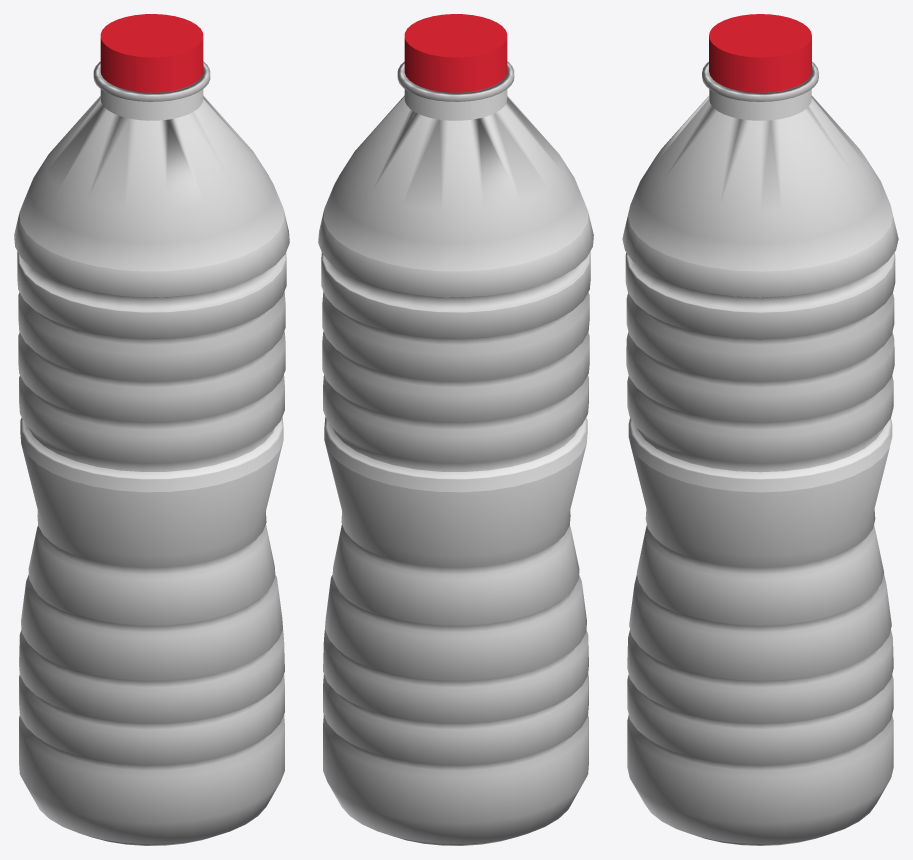
The model's file is bottle.dae.
3 views of the same model, side by side, from view 1: azimuth 30°, elevation 25°; view 2: azimuth 150°, elevation 25°; view 3: azimuth 270°, elevation 25° (orthographic).
Visible parts, largest first — view 1: Cylinder, Cylinder.001, Cylinder.002; view 2: Cylinder, Cylinder.001, Cylinder.002; view 3: Cylinder, Cylinder.001, Cylinder.002.
Part boxes in pixels (<box>): Cylinder: <box>14,61,289,845</box>; Cylinder.001: <box>100,14,203,92</box>; Cylinder.002: <box>20,417,283,845</box>; Cylinder: <box>318,61,593,845</box>; Cylinder.001: <box>404,14,507,92</box>; Cylinder.002: <box>324,417,587,845</box>; Cylinder: <box>622,62,898,845</box>; Cylinder.001: <box>709,14,811,92</box>; Cylinder.002: <box>628,418,892,845</box>.
Bounding box in the file's own units: 0.1317 × 0.1317 × 0.404.
